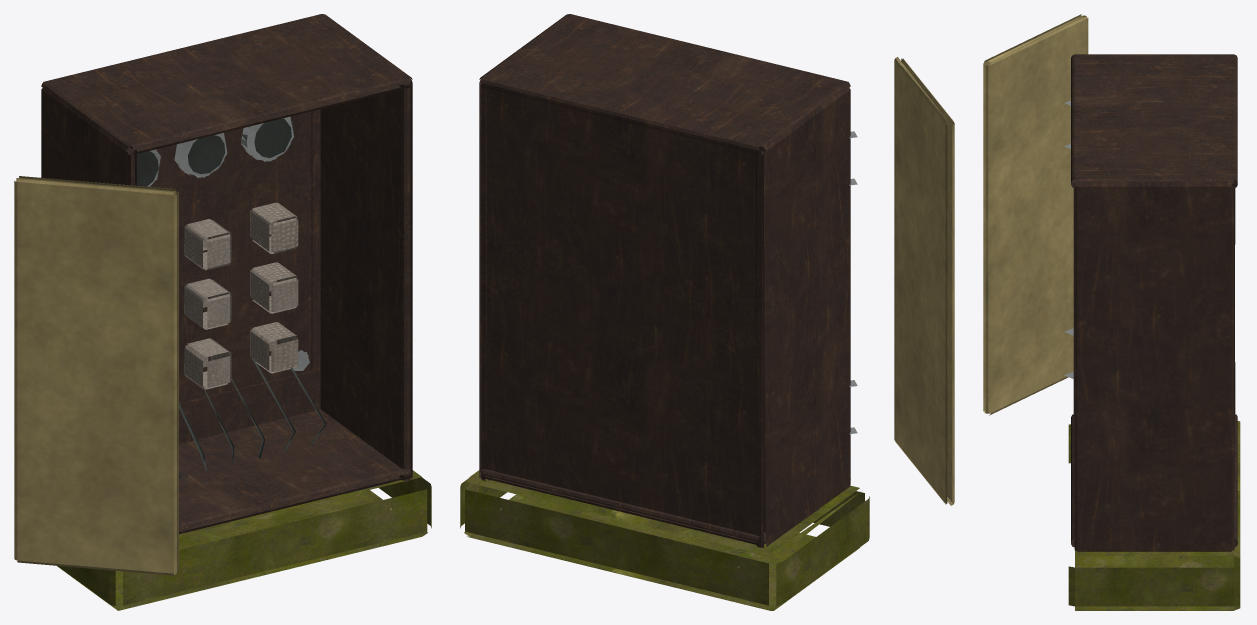
File: lod2_NOT_APPROVED.glb
3 views of the same model, side by side, from view 1: azimuth 30°, elevation 25°; view 2: azimuth 150°, elevation 25°; view 3: azimuth 270°, elevation 25° (orthographic). The views are drawn at different scales.
Parts seen in each view (by area): view 1: f3_oxidized_iron_surface, f3_faded_safety_ochre_surface, f3_damp_concrete_surface, f3_weathered_concrete_surface, f3_deep_crack_surface, f3_bare_worn_steel_surface, f3_aged_rubber_surface; view 2: f3_oxidized_iron_surface, f3_damp_concrete_surface, f3_faded_safety_ochre_surface; view 3: f3_oxidized_iron_surface, f3_faded_safety_ochre_surface, f3_damp_concrete_surface.
Boxes of the visible parts, box(x1,y1,x2,y2) form: f3_oxidized_iron_surface: box(41, 14, 412, 534); f3_faded_safety_ochre_surface: box(14, 176, 178, 575); f3_damp_concrete_surface: box(56, 470, 431, 610); f3_weathered_concrete_surface: box(184, 202, 298, 389); f3_deep_crack_surface: box(137, 118, 291, 186); f3_bare_worn_steel_surface: box(147, 116, 309, 370); f3_aged_rubber_surface: box(179, 357, 326, 477); f3_oxidized_iron_surface: box(479, 14, 850, 547); f3_damp_concrete_surface: box(460, 470, 869, 610); f3_faded_safety_ochre_surface: box(894, 57, 954, 505); f3_oxidized_iron_surface: box(1071, 54, 1237, 551); f3_faded_safety_ochre_surface: box(983, 14, 1088, 415); f3_damp_concrete_surface: box(1068, 421, 1240, 610).
Size of the model in its own units: 1.73 by 1.86 by 1.03.
Materials: 7 (7 with a texture image).
